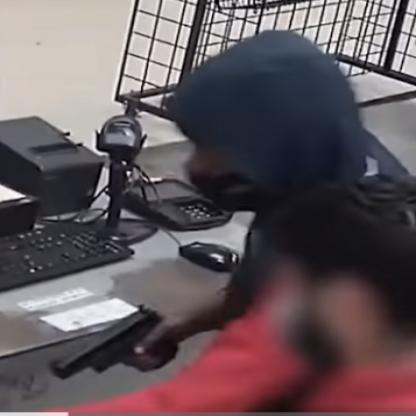weapon: (46, 299, 186, 384)
